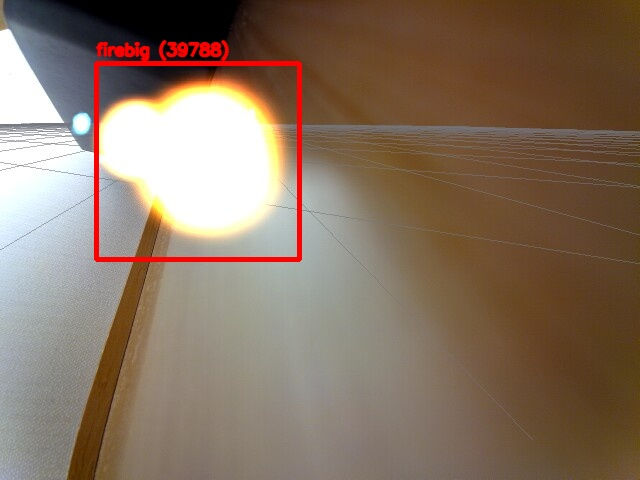firebig: (96, 63, 299, 259)
